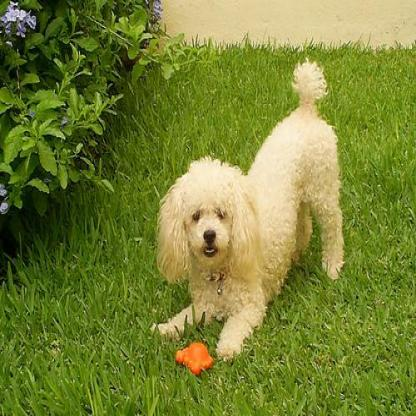toy_poodle: (147, 56, 347, 364)
